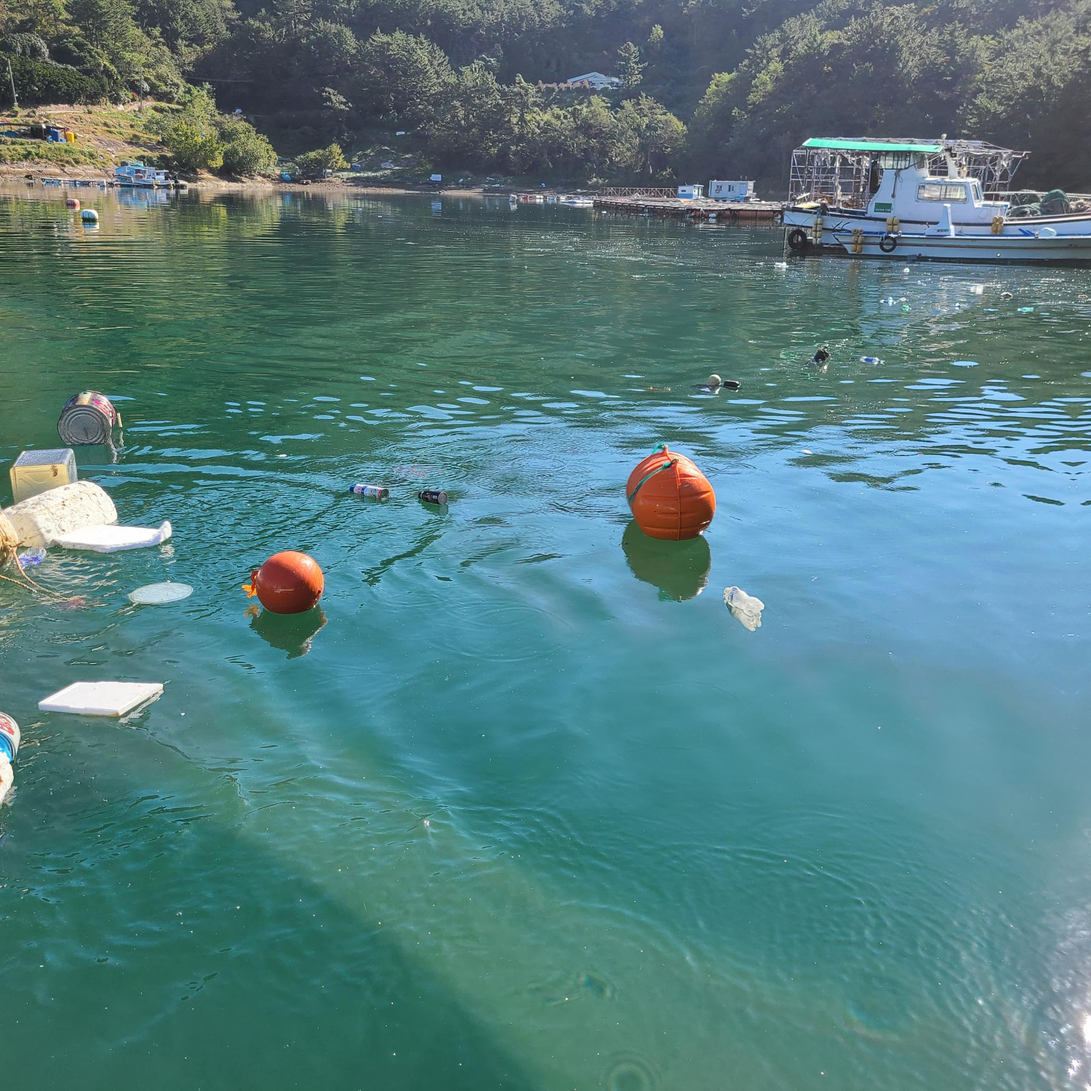sampah_terapung: (627, 445, 716, 542), (3, 481, 118, 549), (251, 552, 325, 615), (38, 682, 164, 718), (1, 557, 88, 605), (10, 449, 78, 506), (54, 522, 173, 552), (724, 587, 765, 617), (1, 511, 19, 568), (13, 547, 47, 571), (1, 752, 14, 803), (350, 485, 389, 500), (418, 490, 448, 505), (82, 209, 100, 222), (860, 356, 885, 365), (708, 375, 722, 386), (66, 199, 80, 207), (725, 381, 740, 388)
